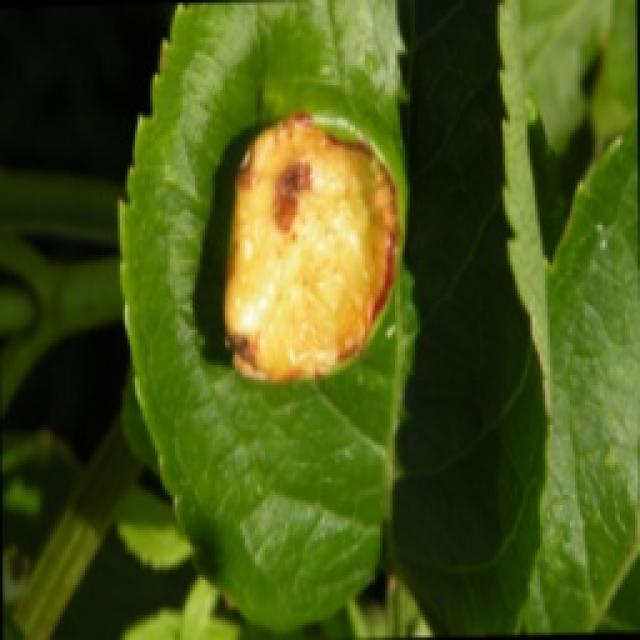Elderberry_rust: (155, 61, 424, 396)
